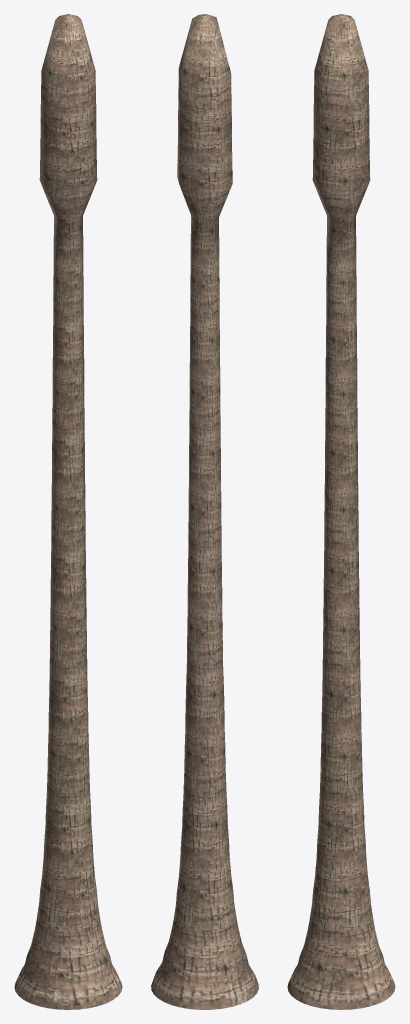
The model's file is tree_1_plam_4_trunk_0.004_lev2.glb.
3 renders of one model, left to right at view 1: azimuth 90°, elevation 25°; view 2: azimuth 210°, elevation 25°; view 3: azimuth 270°, elevation 25°, orthographic.
Parts seen in each view (by area): view 1: tree_1_plam_4_trunk_0.004_lev2; view 2: tree_1_plam_4_trunk_0.004_lev2; view 3: tree_1_plam_4_trunk_0.004_lev2.
Part boxes in pixels (x1=…): tree_1_plam_4_trunk_0.004_lev2: x1=14, y1=14, x2=122, y2=1009; tree_1_plam_4_trunk_0.004_lev2: x1=151, y1=14, x2=258, y2=1009; tree_1_plam_4_trunk_0.004_lev2: x1=287, y1=14, x2=395, y2=1009.
Size of the model in its own units: 1.47 by 14.59 by 1.47.
1 material, 1 textured.
